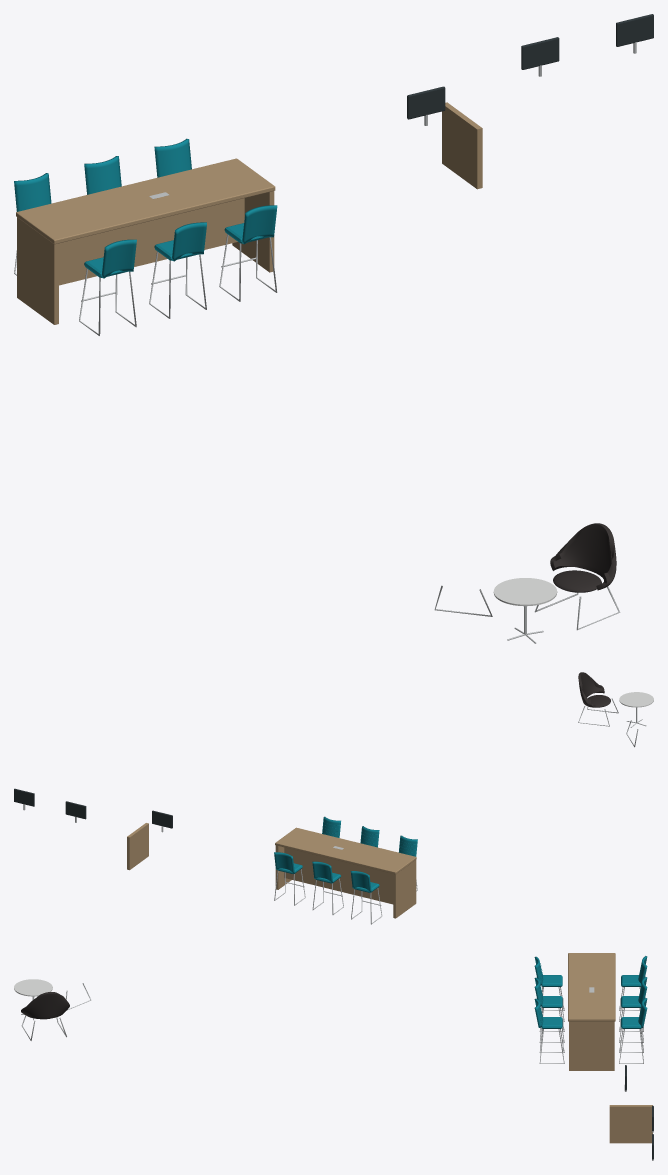
File: SM_L2_Furniture_Solid_8a37a8259c_0.fbx
3 renders of one model, top to bottom at view 1: azimuth 30°, elevation 25°; view 2: azimuth 150°, elevation 25°; view 3: azimuth 270°, elevation 25°, orthographic. The views are drawn at different scales.
Visible parts, largest first — view 1: SM_L2_Furniture_Solid_8a37a8259c_0; view 2: SM_L2_Furniture_Solid_8a37a8259c_0; view 3: SM_L2_Furniture_Solid_8a37a8259c_0.
Boxes of the visible parts, bbox=[...] form: SM_L2_Furniture_Solid_8a37a8259c_0: bbox=[14, 14, 653, 643]; SM_L2_Furniture_Solid_8a37a8259c_0: bbox=[14, 672, 653, 924]; SM_L2_Furniture_Solid_8a37a8259c_0: bbox=[14, 953, 653, 1160].
Bounding box in the file's own units: 8.88 × 11.86 × 1.23.
